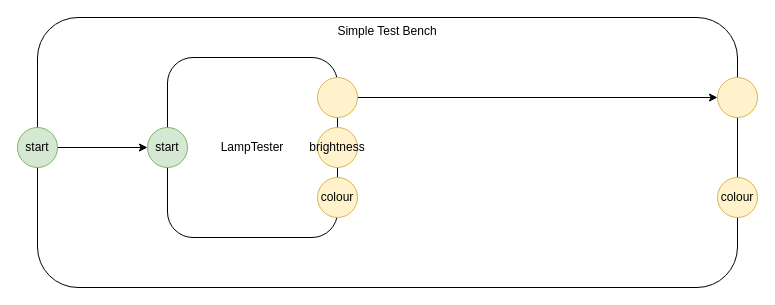
This 775x305 diagram has some shape labels left out. Here are the shapes that lost their labels. From the top down, the centre of each, then its label:
At (337,97): "pwr".
At (737,97): "power".
